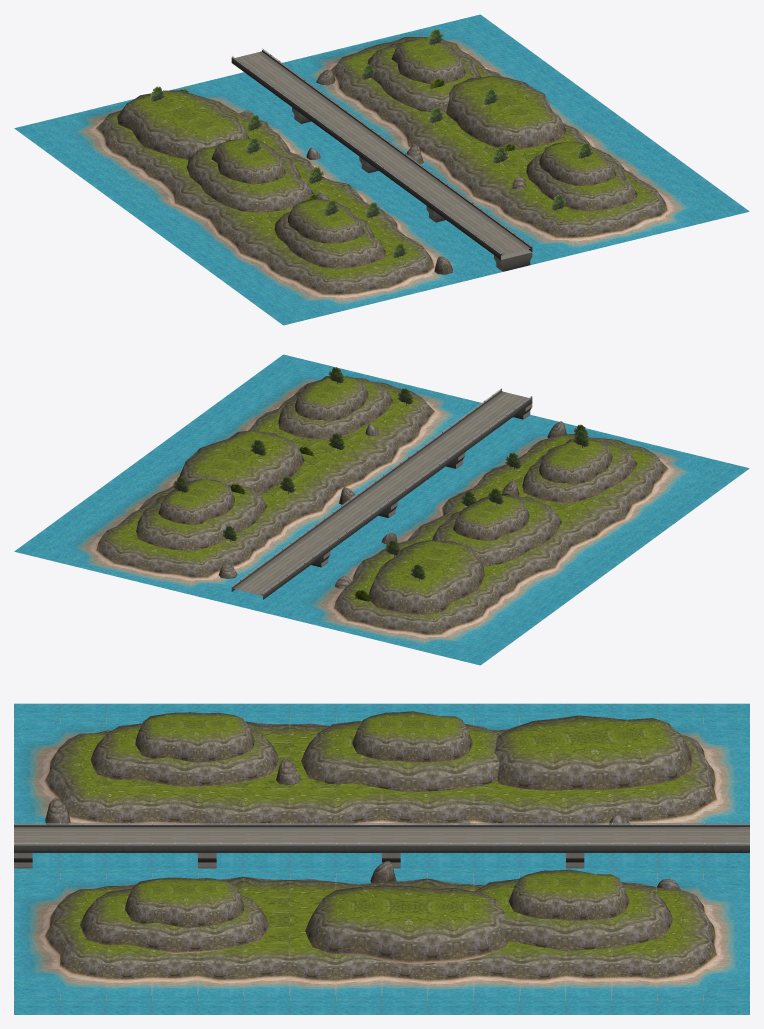
The model's file is Track08_Low.FBX.
3 views of the same model, one above another, from view 1: azimuth 30°, elevation 25°; view 2: azimuth 150°, elevation 25°; view 3: azimuth 270°, elevation 25° (orthographic). The views are drawn at different scales.
Parts seen in each view (by area): view 1: ground, Rock (×10), Road (×2), Pillar; view 2: ground, Rock (×10), Road (×2); view 3: ground, Rock (×10), Road (×2).
Boxes of the visible parts, bbox=[...] form: ground: bbox=[14, 14, 749, 325]; Rock (×10): bbox=[117, 38, 637, 269]; Road (×2): bbox=[231, 48, 532, 259]; Pillar: bbox=[494, 249, 532, 271]; ground: bbox=[14, 354, 749, 665]; Rock (×10): bbox=[136, 375, 637, 614]; Road (×2): bbox=[231, 388, 532, 599]; ground: bbox=[14, 703, 749, 1014]; Rock (×10): bbox=[80, 711, 692, 964]; Road (×2): bbox=[14, 822, 749, 852].
Size of the model in its own units: 6300 by 740 by 6300.
